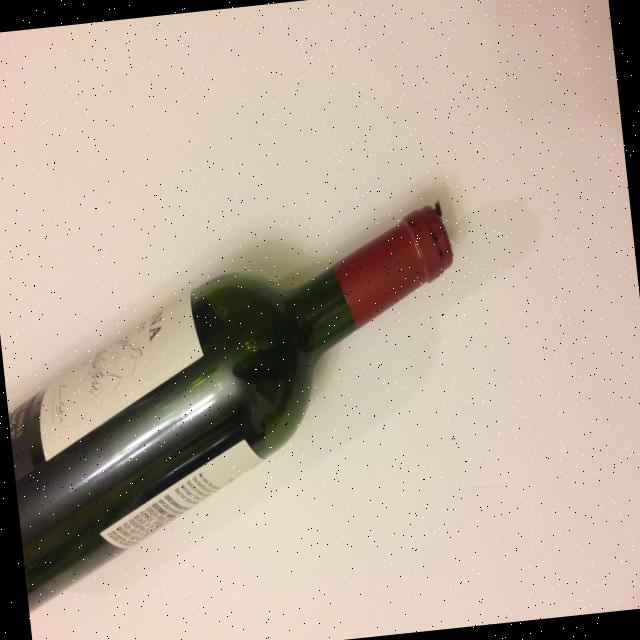glass: (0, 196, 484, 594)
